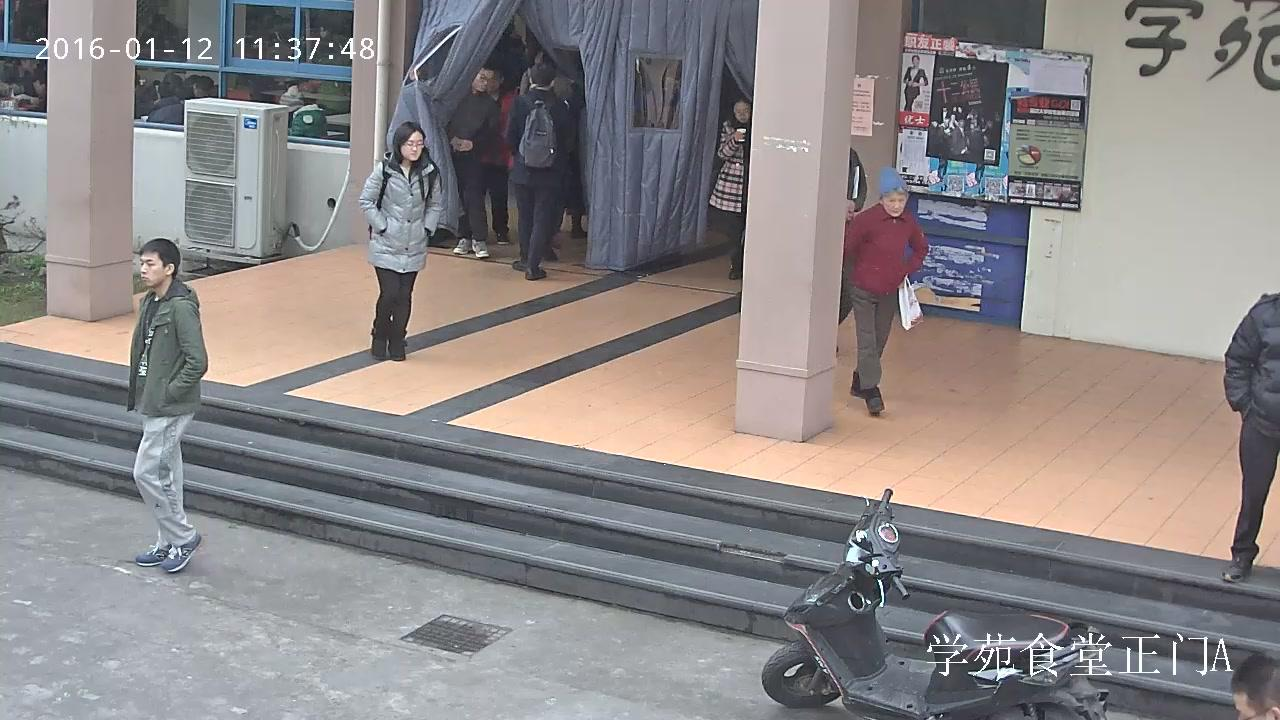person: (126, 238, 208, 573), (844, 165, 927, 413), (358, 121, 443, 360), (1222, 292, 1280, 580), (508, 61, 568, 281), (443, 58, 503, 256), (708, 96, 751, 280), (278, 85, 327, 137), (902, 55, 927, 111)
